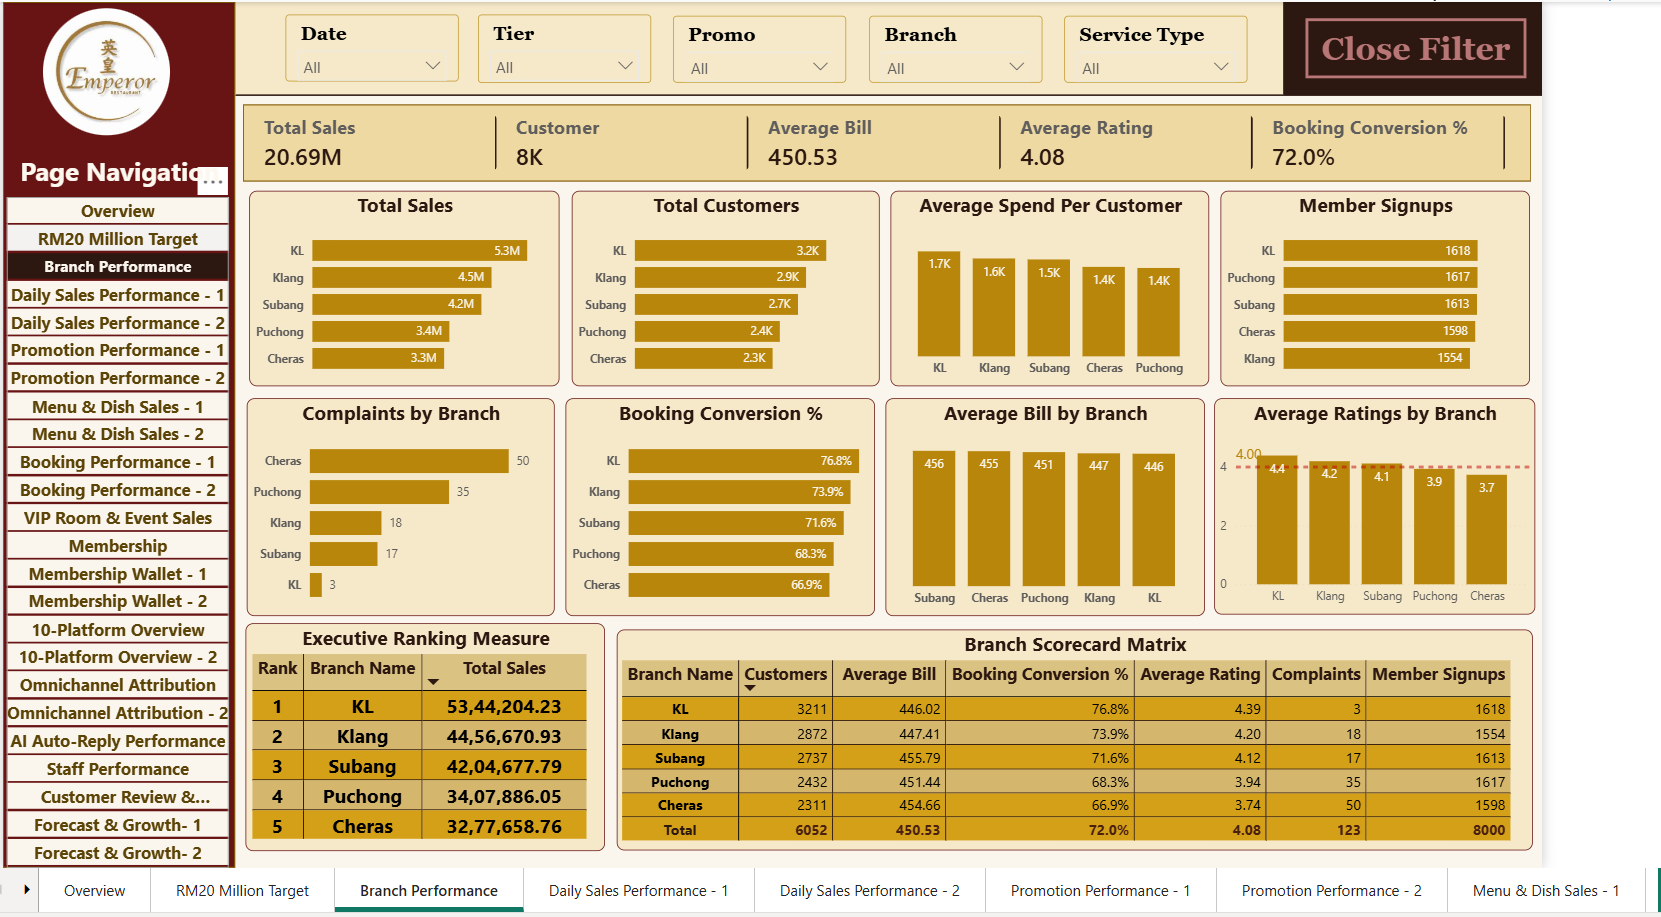

The dashboard page shown, as its layout file describes it:
{"tool":"powerbi","page":{"name":"Branch Performance","canvas":[1600,900],"ordinal":2},"visuals":[{"type":"clusteredBarChart","title":"Total Sales ","fields":{"Category":["Dim_Branch.BranchName1"],"Y":["__DAX_Measures.Total Sales"]},"box":[256.2,196.2,322.7,203.5],"z":0},{"type":"clusteredBarChart","title":"Total Customers","fields":{"Category":["Dim_Branch.BranchName1"],"Y":["__DAX_Measures.Customers"]},"box":[590.6,196.2,319.8,203.5],"z":1000},{"type":"clusteredColumnChart","title":"Average Bill by Branch","fields":{"Category":["Dim_Branch.BranchName1"],"Y":["__DAX_Measures.Average Bill"]},"box":[916.7,411.8,331.7,226.7],"z":2000},{"type":"columnChart","title":"Average Spend Per Customer","fields":{"Category":["Dim_Branch.BranchName1"],"Y":["__DAX_Measures.Average Spend Per Customer"]},"box":[921.9,196.2,331.4,203.5],"z":3000},{"type":"barChart","title":"Booking Conversion %","fields":{"Category":["Dim_Branch.BranchName1"],"Y":["__DAX_Measures.Booking Conversion %"]},"box":[584,411.8,321.7,226.7],"z":4000},{"type":"columnChart","title":"Average Ratings by Branch","fields":{"Category":["Dim_Branch.BranchName1"],"Y":["__DAX_Measures.Average Rating"]},"box":[1259.5,411.5,333.9,224.7],"z":5000},{"type":"barChart","title":"Complaints by Branch","fields":{"Category":["Dim_Branch.BranchName1"],"Y":["__DAX_Measures.Complaints"]},"box":[253,411.8,320,226.7],"z":6000},{"type":"barChart","title":"Member Signups","fields":{"Category":["Dim_Branch.BranchName"],"Y":["__DAX_Measures.Member Signups"]},"box":[1265,196.2,321.2,203.5],"z":7000},{"type":"pivotTable","title":"Branch Scorecard Matrix","fields":{"Rows":["Dim_Branch.BranchName1"],"Values":["__DAX_Measures.Customers","__DAX_Measures.Average Bill","__DAX_Measures.Booking Conversion %","__DAX_Measures.Average Rating","__DAX_Measures.Complaints","__DAX_Measures.Member Signups"]},"box":[638.1,652.6,952,229.7],"z":8000},{"type":"tableEx","title":"Executive Ranking Measure","fields":{"Values":["__DAX_Measures.Branch Rank","Dim_Branch.BranchName1","__DAX_Measures.Total Sales"]},"box":[251.5,645.4,373.5,236.9],"z":9000},{"type":"shape","box":[0,0,241.3,899.7],"z":10000},{"type":"shape","box":[250,106.1,1338.7,79.9],"z":11000},{"type":"cardVisual","fields":{"Data":["__DAX_Measures.Total Sales","__DAX_Measures.Customer","__DAX_Measures.Average Bill","__DAX_Measures.Average Rating","__DAX_Measures.Booking Conversion %"]},"box":[248.5,106.1,1324.1,79.9],"z":12000},{"type":"textbox","box":[241,0,1359,97.4],"z":13000},{"type":"shape","box":[241.3,0,1088.7,95.9],"z":14000},{"type":"actionButton","title":"Close Filter","box":[1353.2,17.4,229.7,62.5],"z":15000},{"type":"slicer","fields":{"Values":["Dim_Promotion.Promo Name"]},"box":[696.2,14.5,180.2,69.8],"z":17000},{"type":"slicer","fields":{"Values":["Dim_Customer.Tier"]},"box":[494.2,13.1,180.2,71.2],"z":18000},{"type":"slicer","fields":{"Values":["Dim_Branch.BranchName"]},"box":[899.7,14.5,180.2,69.8],"z":19000},{"type":"slicer","fields":{"Values":["Dim_Date.Date"]},"box":[293.6,13.1,180.2,69.8],"z":20000},{"type":"slicer","fields":{"Values":["Fact_Sales.ServiceType"]},"box":[1103.2,14.5,190,69.8],"z":21000},{"type":"image","box":[41.9,6.2,131.9,131.9],"z":24000},{"type":"pageNavigator","box":[4.4,202.3,231.1,697.7],"z":24001},{"type":"textbox","box":[0,152.6,242.7,46.5],"z":24002}]}

Visuals, with their boxes on the page's 1600x900 design canvas (x1, y1, x2, y2). These are canvas units, not pixel positions in the 1661x917 screenshot, which may show the page scaled, cropped or inside an application window:
"Total Sales " clusteredBarChart: <box>256,196,579,400</box>
"Total Customers" clusteredBarChart: <box>591,196,910,400</box>
"Average Bill by Branch" clusteredColumnChart: <box>917,412,1248,638</box>
"Average Spend Per Customer" columnChart: <box>922,196,1253,400</box>
"Booking Conversion %" barChart: <box>584,412,906,638</box>
"Average Ratings by Branch" columnChart: <box>1260,412,1593,636</box>
"Complaints by Branch" barChart: <box>253,412,573,638</box>
"Member Signups" barChart: <box>1265,196,1586,400</box>
"Branch Scorecard Matrix" pivotTable: <box>638,653,1590,882</box>
"Executive Ranking Measure" tableEx: <box>252,645,625,882</box>
shape: <box>0,0,241,900</box>
shape: <box>250,106,1589,186</box>
cardVisual - __DAX_Measures.Total Sales x __DAX_Measures.Customer: <box>248,106,1573,186</box>
textbox: <box>241,0,1600,97</box>
shape: <box>241,0,1330,96</box>
"Close Filter" actionButton: <box>1353,17,1583,80</box>
slicer - Dim_Promotion.Promo Name: <box>696,14,876,84</box>
slicer - Dim_Customer.Tier: <box>494,13,674,84</box>
slicer - Dim_Branch.BranchName: <box>900,14,1080,84</box>
slicer - Dim_Date.Date: <box>294,13,474,83</box>
slicer - Fact_Sales.ServiceType: <box>1103,14,1293,84</box>
image: <box>42,6,174,138</box>
pageNavigator: <box>4,202,236,900</box>
textbox: <box>0,153,243,199</box>
